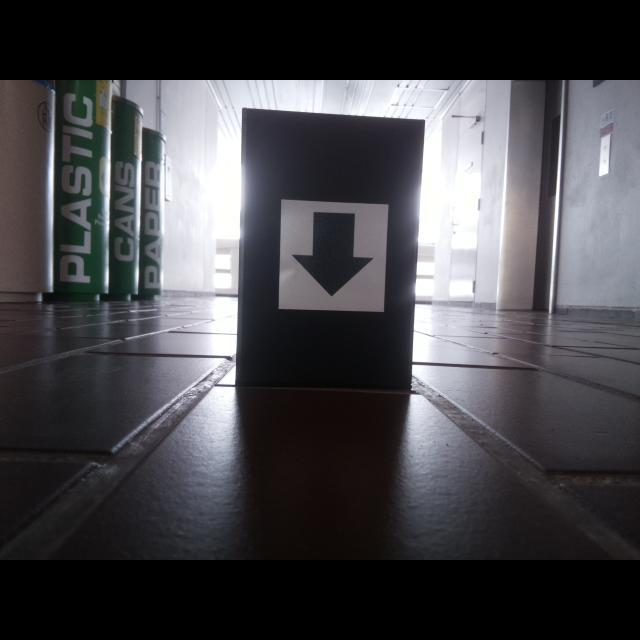DOWN: (289, 211, 375, 298)
